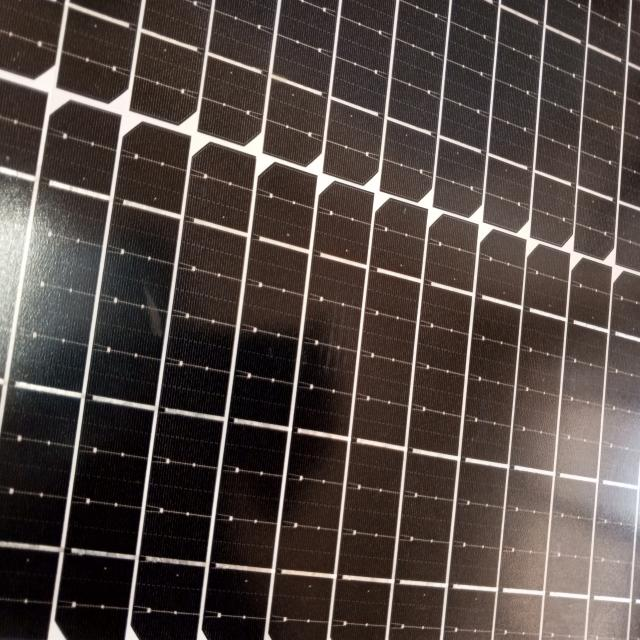Clean: (1, 0, 581, 640)
